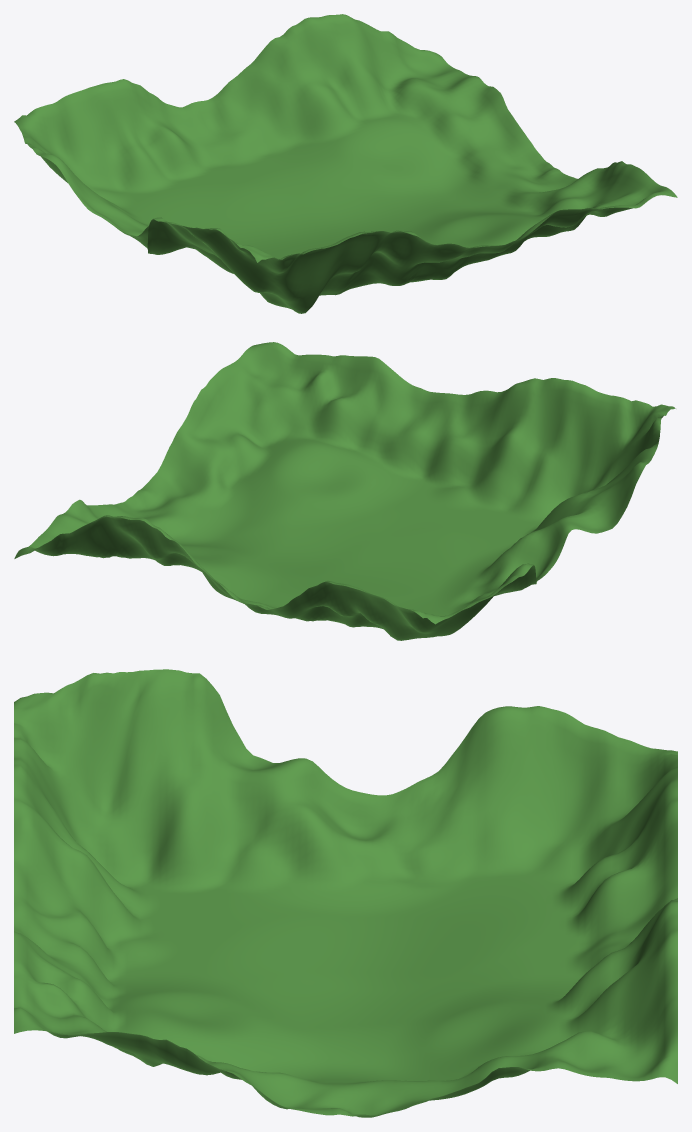
Rendered from Terrain.gltf.
3 renders of one model, top to bottom at view 1: azimuth 30°, elevation 25°; view 2: azimuth 150°, elevation 25°; view 3: azimuth 270°, elevation 25°, orthographic. The views are drawn at different scales.
Parts seen in each view (by area): view 1: SketchUp; view 2: SketchUp; view 3: SketchUp.
Boxes of the visible parts, box(x1,y1,x2,y2) form: SketchUp: box(14, 14, 677, 313); SketchUp: box(14, 342, 675, 640); SketchUp: box(14, 669, 677, 1117).
Bounding box in the file's own units: 1086 × 284 × 1000.
